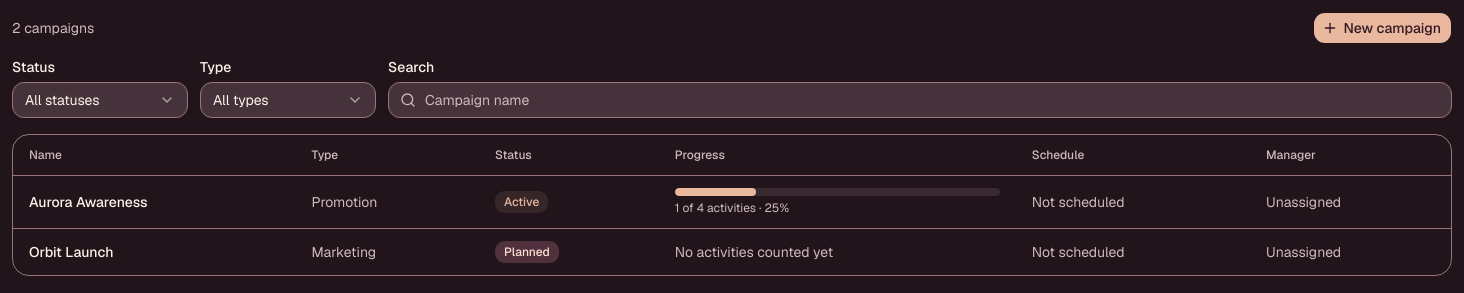
Test: CampaignsManager API integration › server-side filters and paging › debounces the name search and sends the trimmed term
expect the text "2 campaigns" is shown: met, box x1=12 y1=18 x2=94 y2=38
Type "  orbit " into the search field labelled "Search" at (920, 100), box x1=388 y1=82 x2=1452 y2=118
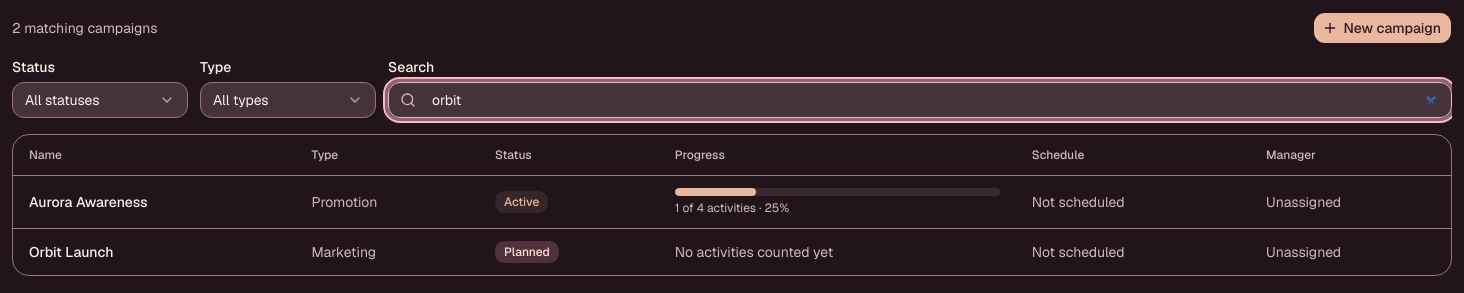
expect the text "2 matching campaigns" is shown: met, box x1=12 y1=18 x2=158 y2=38
